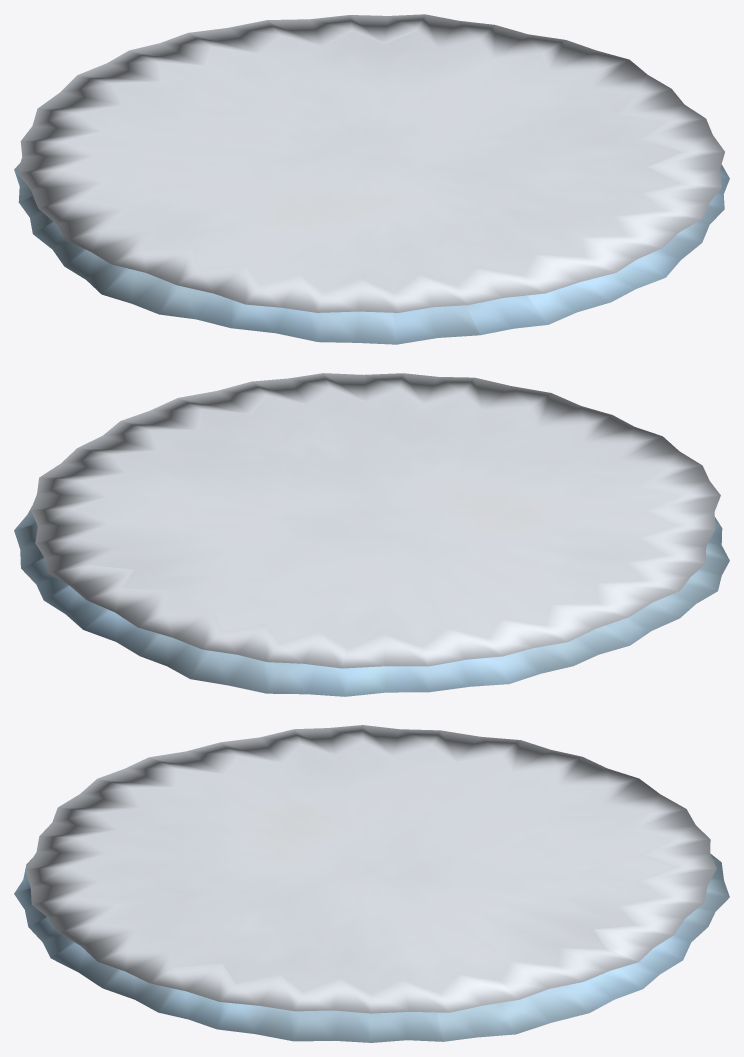
Rendered from ice_floe_l.fbx.
3 views of the same model, one above another, from view 1: azimuth 30°, elevation 25°; view 2: azimuth 150°, elevation 25°; view 3: azimuth 270°, elevation 25° (orthographic). The views are drawn at different scales.
Visible parts, largest first — view 1: ice_floe_l; view 2: ice_floe_l; view 3: ice_floe_l.
Boxes of the visible parts, x1,y1,x2,y2 form: ice_floe_l: (14, 14, 729, 344); ice_floe_l: (14, 373, 729, 696); ice_floe_l: (14, 725, 729, 1042).
Bounding box in the file's own units: 1023 × 95.97 × 1055.
